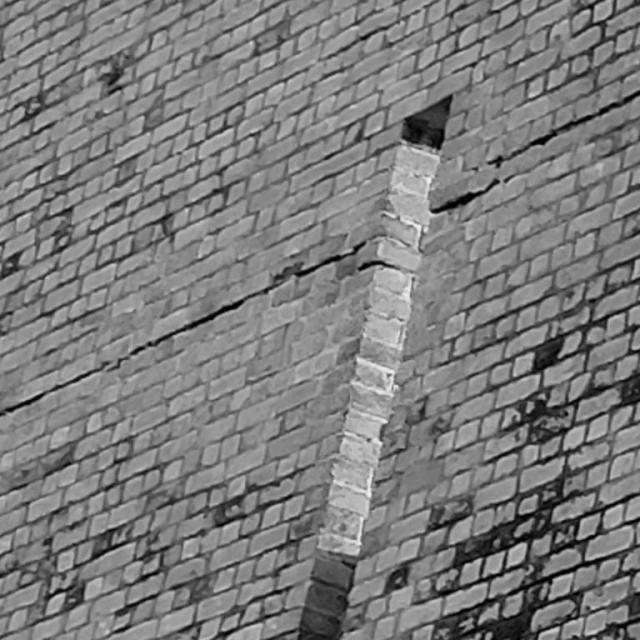crack: (1, 240, 367, 416), (487, 91, 639, 168), (430, 172, 518, 216), (356, 258, 400, 270)
